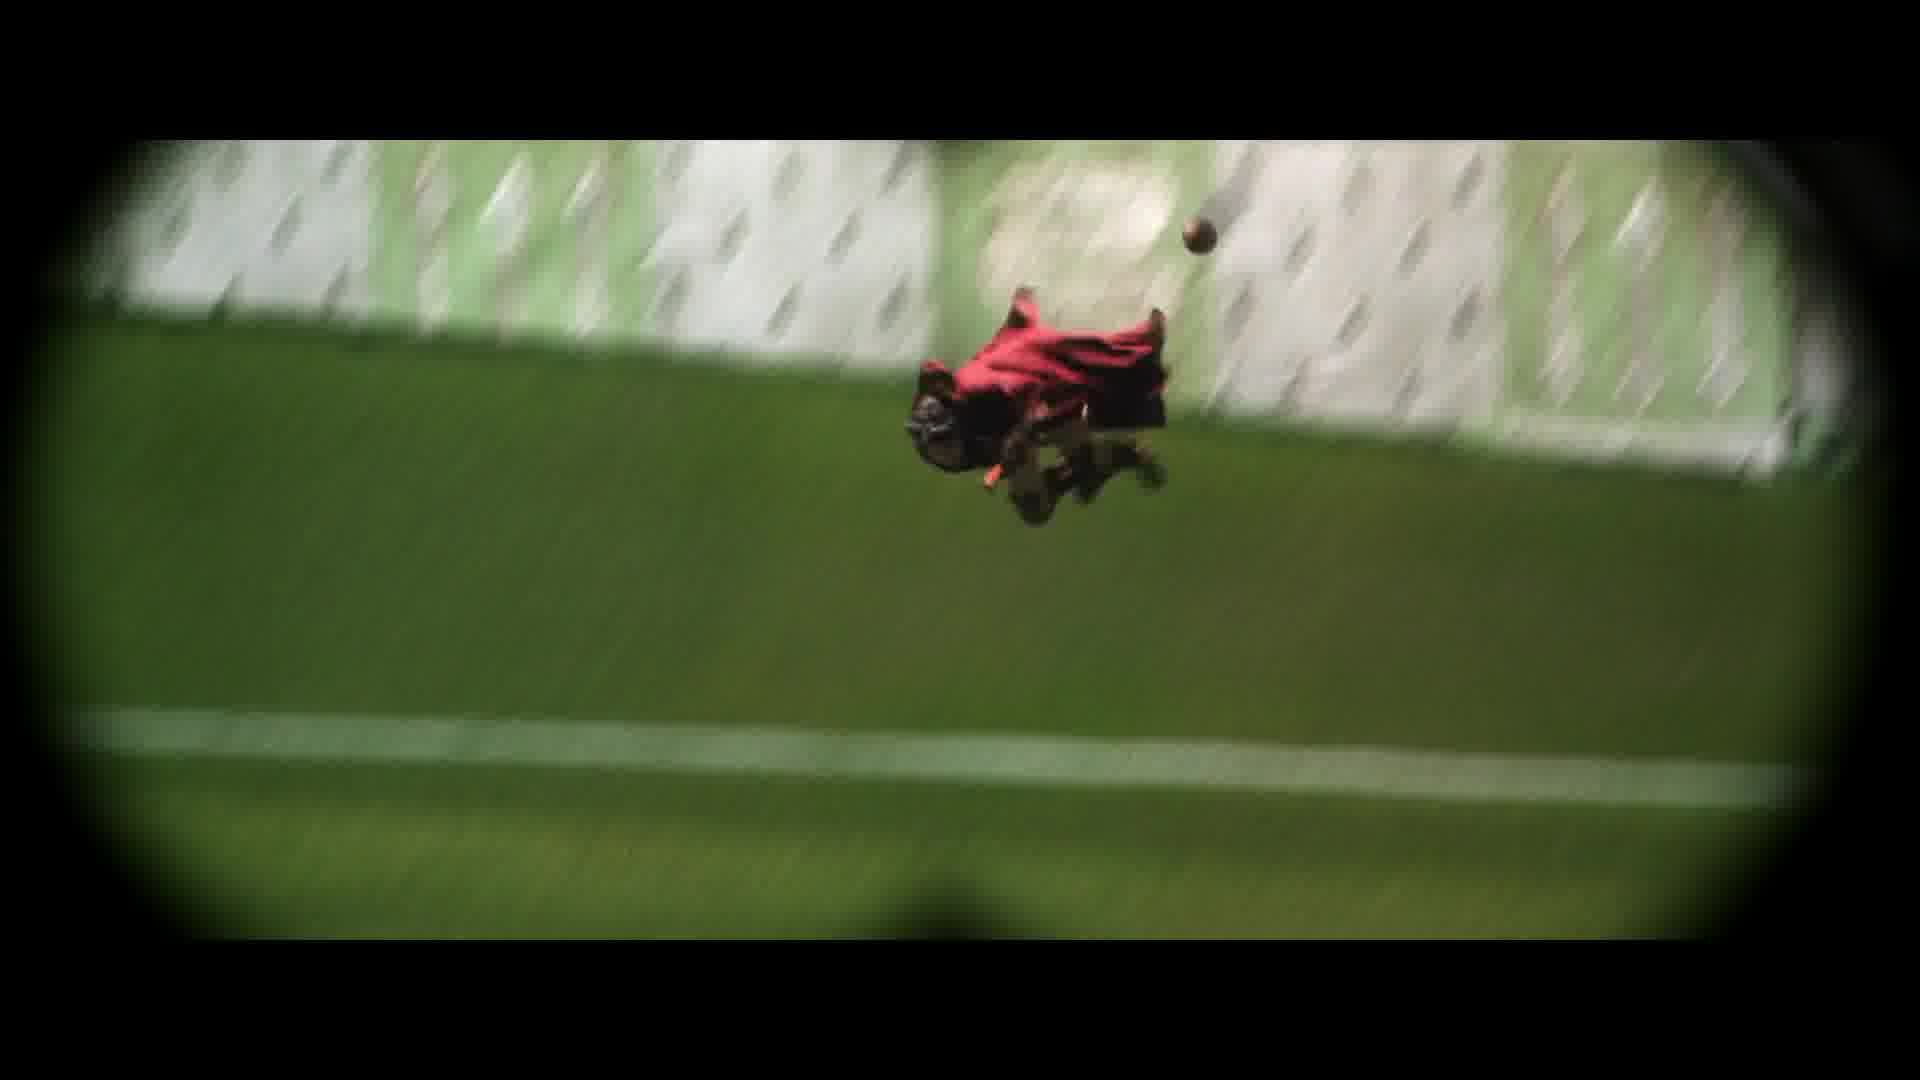bludger: (1178, 216, 1217, 255)
